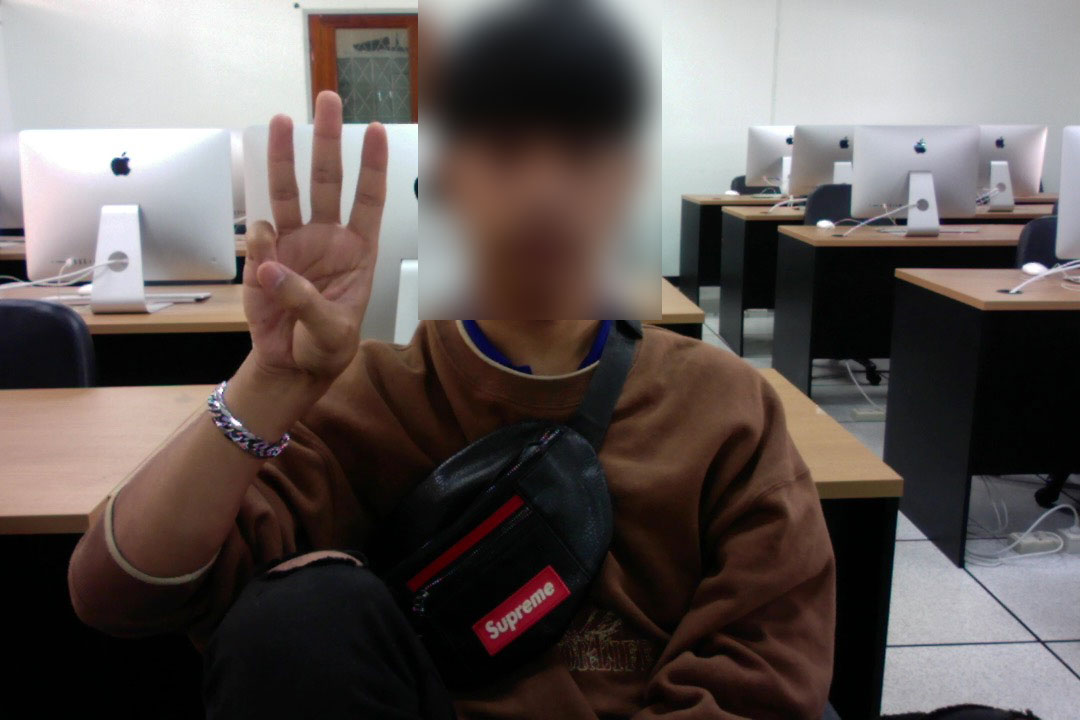wor: (230, 95, 397, 377)
